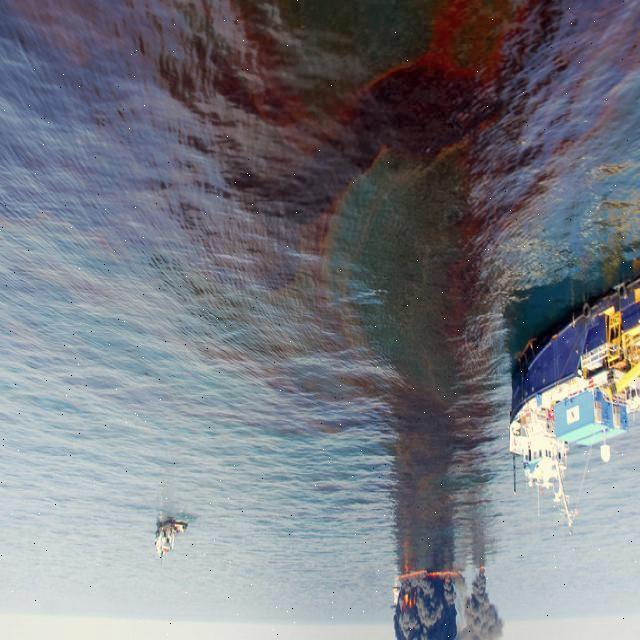oil: (3, 0, 640, 298)
